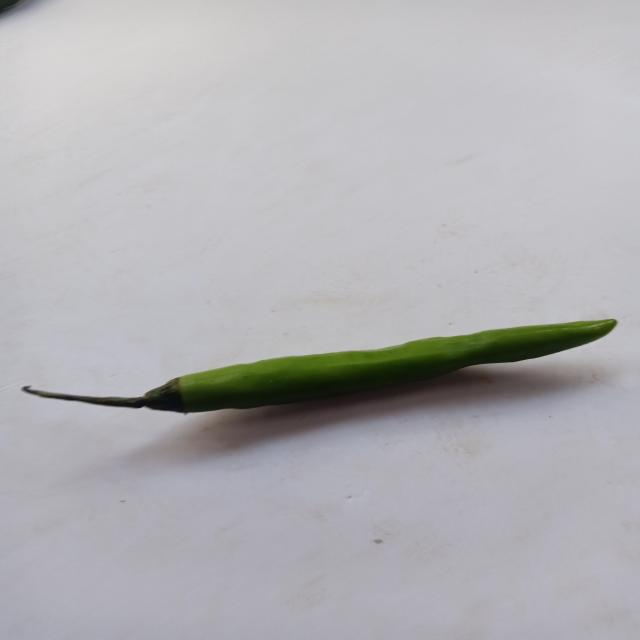Green Chilly: (20, 319, 617, 413)
